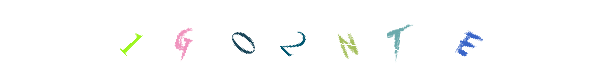0: (224, 0, 304, 80)
1: (142, 0, 222, 80)
2: (262, 0, 342, 80)
E: (419, 0, 499, 80)
G: (217, 0, 297, 80)
N: (319, 0, 399, 80)
T: (340, 0, 420, 80)
